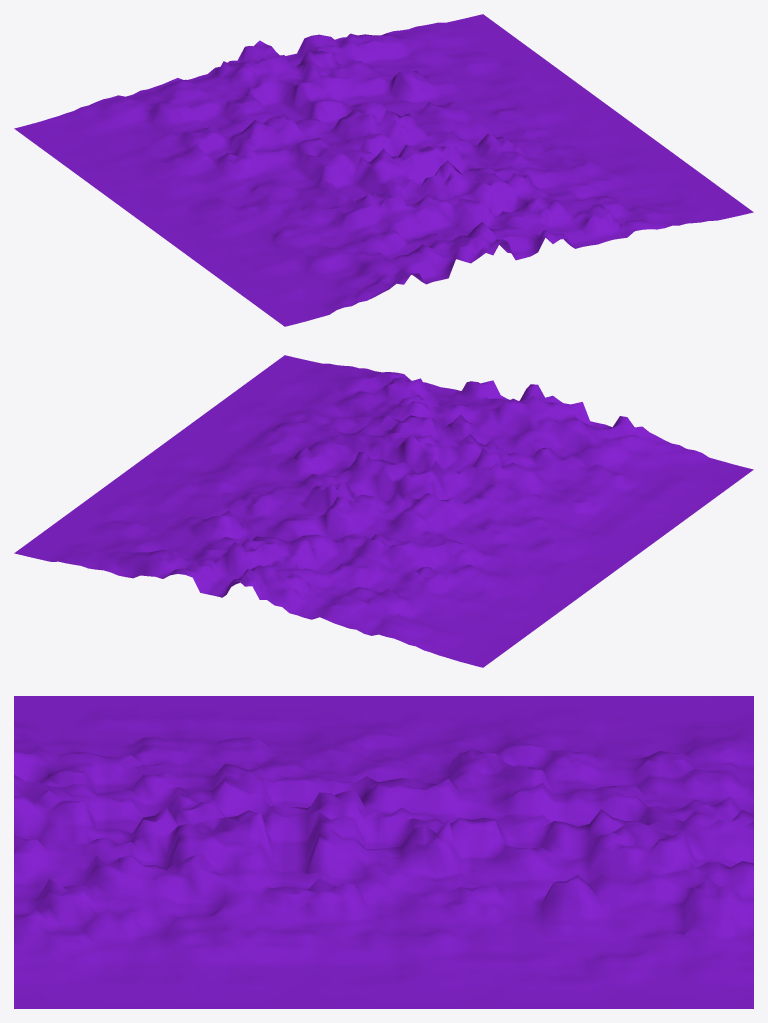
File: tcannon.obj
3 renders of one model, top to bottom at view 1: azimuth 30°, elevation 25°; view 2: azimuth 150°, elevation 25°; view 3: azimuth 270°, elevation 25°, orthographic. The views are drawn at different scales.
Visible parts, largest first — view 1: Landscape; view 2: Landscape; view 3: Landscape.
Part boxes in pixels (x1,y1,x2,y2): Landscape: [14, 14, 753, 326]; Landscape: [14, 355, 753, 667]; Landscape: [14, 696, 753, 1008].
Size of the model in its own units: 16 by 1.26 by 16.
